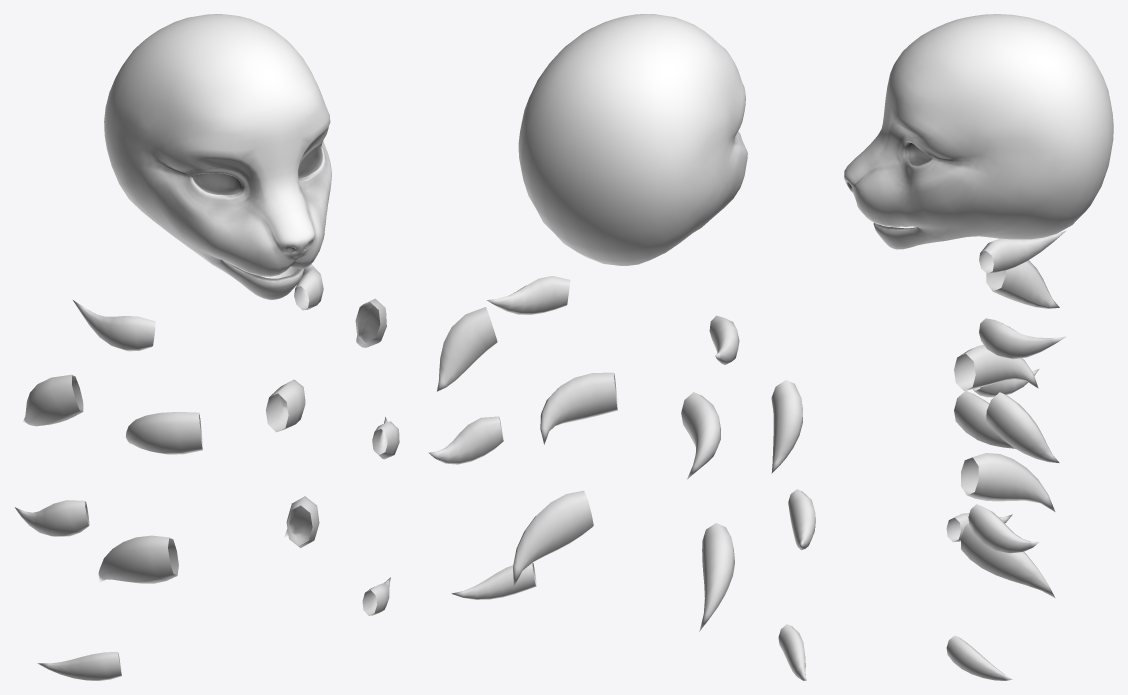
File: MyFelineHead LowPoly.fbx
3 views of the same model, side by side, from view 1: azimuth 30°, elevation 25°; view 2: azimuth 150°, elevation 25°; view 3: azimuth 270°, elevation 25° (orthographic). The views are drawn at different scales.
Visible parts, largest first — view 1: FelineHead.002, FLUFF.001; view 2: FelineHead.002, FLUFF.001; view 3: FelineHead.002, FLUFF.001.
Boxes of the visible parts, x1,y1,x2,y2 form: FelineHead.002: (104,14,331,299); FLUFF.001: (15,264,399,680); FelineHead.002: (518,14,747,265); FLUFF.001: (428,276,815,680); FelineHead.002: (844,14,1113,249); FLUFF.001: (946,230,1066,680).
Bounding box in the file's own units: 38.37 × 60.28 × 25.26.
Materials: 1 (1 with a texture image).
